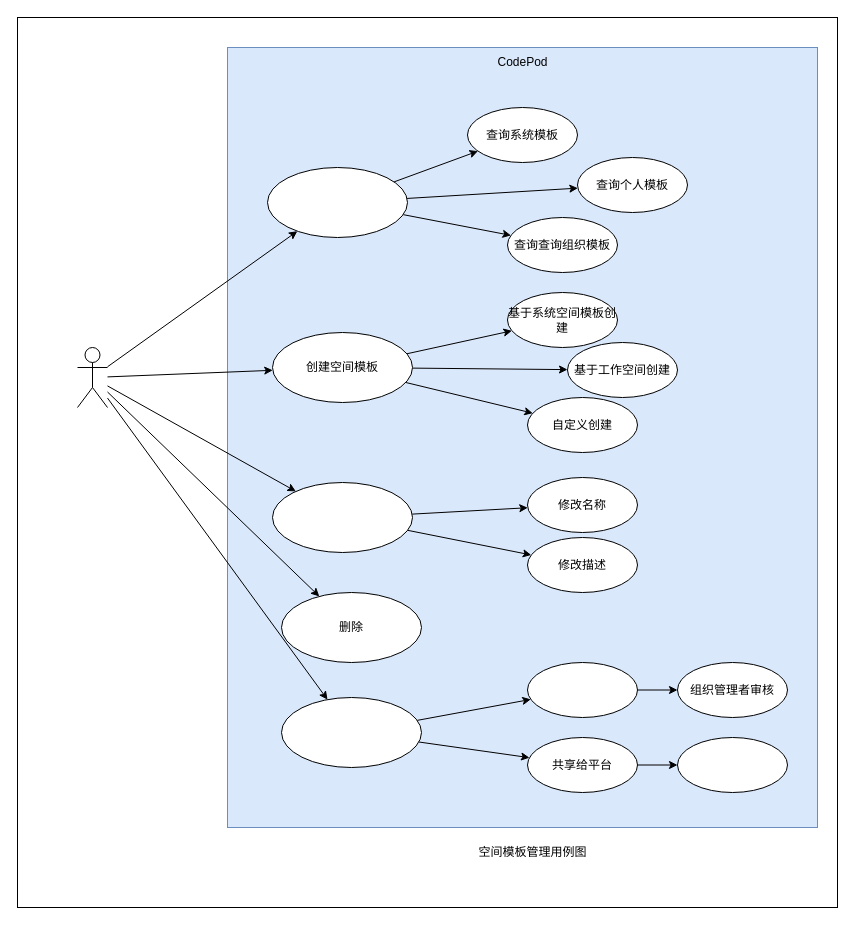
Some shapes in this 855 by 925 pixel diagram are drawn without their labels. The centre of each missing label's shape, as x and y in pixels:
"共享" belongs at point (351, 732).
"共享给组织内部" belongs at point (582, 690).
"平台审核" belongs at point (732, 764).
"查询空间模板" belongs at point (337, 202).
"模板管理者" belongs at point (92, 377).
"编辑" belongs at point (342, 517).
